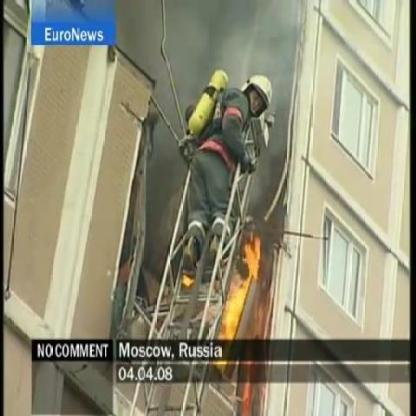fire: (218, 235, 267, 338), (180, 272, 194, 286)
